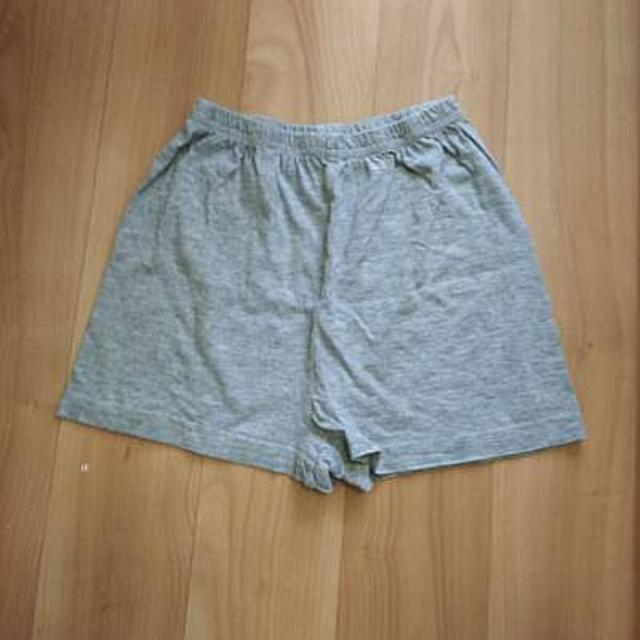SHORT: (39, 91, 597, 497)
